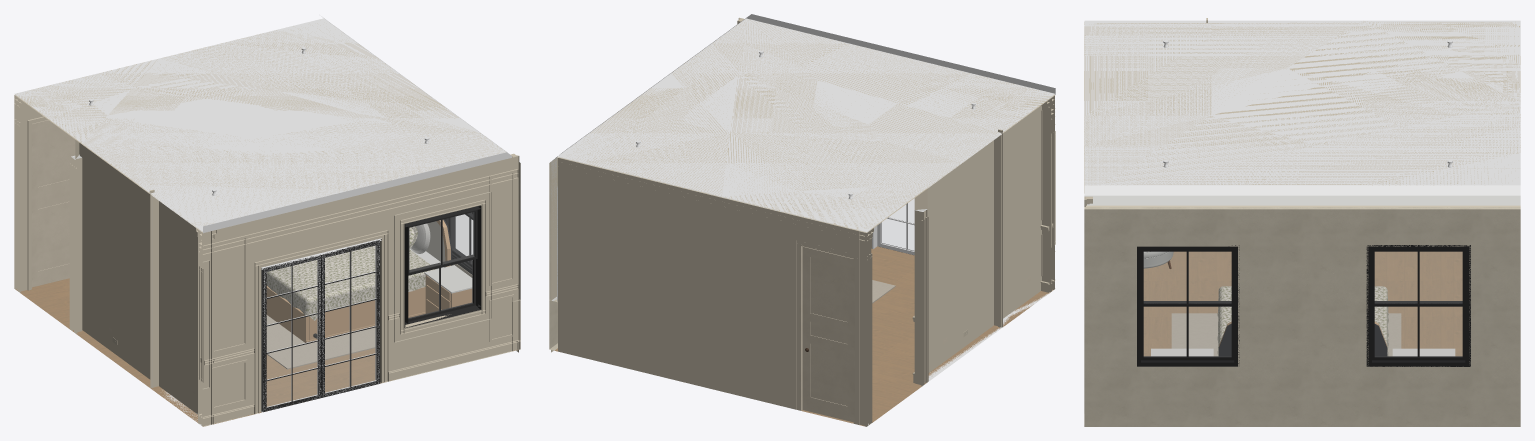
File: primary-bedroom-ec96c585d18c.glb
The picture shows the model from 3 angles, left to right: view 1: azimuth 30°, elevation 25°; view 2: azimuth 150°, elevation 25°; view 3: azimuth 270°, elevation 25°; orthographic projection. The views are drawn at different scales.
Visible parts, largest first — view 1: primary-bedroom-9d91b47435c6fb33, primary-bedroom-b0ade14315e4f1c3, primary-bedroom-e8793759323e04f0, primary-bedroom-0987656e6ddb83c1, primary-bedroom-fc6585fecfaf7ec3, primary-bedroom-e1735639a83d20d7, primary-bedroom-c791a0f218fead78, primary-bedroom-b7a870a0f6b43c8c, primary-bedroom-2575515a05775d9e, primary-bedroom-f68692b01f69d797, primary-bedroom-b5339e4b2b15762b, primary-bedroom-b0dbeb16b2b245ed (+17 smaller); view 2: primary-bedroom-9d91b47435c6fb33, primary-bedroom-21ac2ed1b4475155, primary-bedroom-e8793759323e04f0, primary-bedroom-fc6585fecfaf7ec3, primary-bedroom-b7a870a0f6b43c8c, primary-bedroom-c791a0f218fead78, primary-bedroom-2575515a05775d9e, primary-bedroom-b0ade14315e4f1c3, primary-bedroom-9ecc0d558be1c706, primary-bedroom-0987656e6ddb83c1, primary-bedroom-780708765654f3c3, primary-bedroom-30f9d475162e2dd8 (+2 smaller); view 3: primary-bedroom-9d91b47435c6fb33, primary-bedroom-adb6f49a6d2cbec3, primary-bedroom-e8793759323e04f0, primary-bedroom-16d9002bc6318568, primary-bedroom-2575515a05775d9e, primary-bedroom-91f952a1d198b4a4, primary-bedroom-f5a37a5545b9d676, primary-bedroom-791abe15be22adf2, primary-bedroom-b0dbeb16b2b245ed, primary-bedroom-f68692b01f69d797, primary-bedroom-30f9d475162e2dd8, primary-bedroom-618a70de12df1a33 (+2 smaller).
Boxes of the visible parts, x1,y1,x2,y2 form: primary-bedroom-9d91b47435c6fb33: (14, 18, 511, 232); primary-bedroom-b0ade14315e4f1c3: (198, 155, 519, 426); primary-bedroom-e8793759323e04f0: (17, 16, 511, 231); primary-bedroom-0987656e6ddb83c1: (261, 238, 381, 412); primary-bedroom-fc6585fecfaf7ec3: (75, 140, 158, 387); primary-bedroom-e1735639a83d20d7: (404, 205, 481, 328); primary-bedroom-c791a0f218fead78: (151, 194, 211, 425); primary-bedroom-b7a870a0f6b43c8c: (32, 120, 75, 287); primary-bedroom-2575515a05775d9e: (15, 278, 518, 426); primary-bedroom-f68692b01f69d797: (266, 245, 434, 320); primary-bedroom-b5339e4b2b15762b: (202, 169, 518, 254); primary-bedroom-b0dbeb16b2b245ed: (266, 315, 375, 369); primary-bedroom-9d91b47435c6fb33: (557, 18, 1055, 232); primary-bedroom-21ac2ed1b4475155: (558, 157, 871, 426); primary-bedroom-e8793759323e04f0: (561, 14, 1055, 229); primary-bedroom-fc6585fecfaf7ec3: (914, 134, 1002, 382); primary-bedroom-b7a870a0f6b43c8c: (802, 246, 853, 422); primary-bedroom-c791a0f218fead78: (994, 106, 1052, 327); primary-bedroom-2575515a05775d9e: (551, 246, 1053, 426); primary-bedroom-b0ade14315e4f1c3: (738, 17, 1054, 292); primary-bedroom-9ecc0d558be1c706: (914, 209, 927, 384); primary-bedroom-0987656e6ddb83c1: (872, 199, 914, 255); primary-bedroom-780708765654f3c3: (799, 244, 854, 423); primary-bedroom-30f9d475162e2dd8: (550, 158, 556, 300); primary-bedroom-9d91b47435c6fb33: (1084, 20, 1520, 195); primary-bedroom-adb6f49a6d2cbec3: (1084, 207, 1520, 367); primary-bedroom-e8793759323e04f0: (1084, 21, 1520, 194); primary-bedroom-16d9002bc6318568: (1086, 367, 1520, 424); primary-bedroom-2575515a05775d9e: (1084, 251, 1520, 426); primary-bedroom-91f952a1d198b4a4: (1366, 245, 1470, 366); primary-bedroom-f5a37a5545b9d676: (1137, 245, 1239, 366); primary-bedroom-791abe15be22adf2: (1084, 195, 1520, 205); primary-bedroom-b0dbeb16b2b245ed: (1171, 313, 1401, 356); primary-bedroom-f68692b01f69d797: (1217, 286, 1388, 356); primary-bedroom-30f9d475162e2dd8: (1086, 205, 1520, 206); primary-bedroom-618a70de12df1a33: (1219, 323, 1387, 356).
Bounding box in the file's own units: 4.97 × 3.04 × 5.11.
37 materials, 7 textured.
